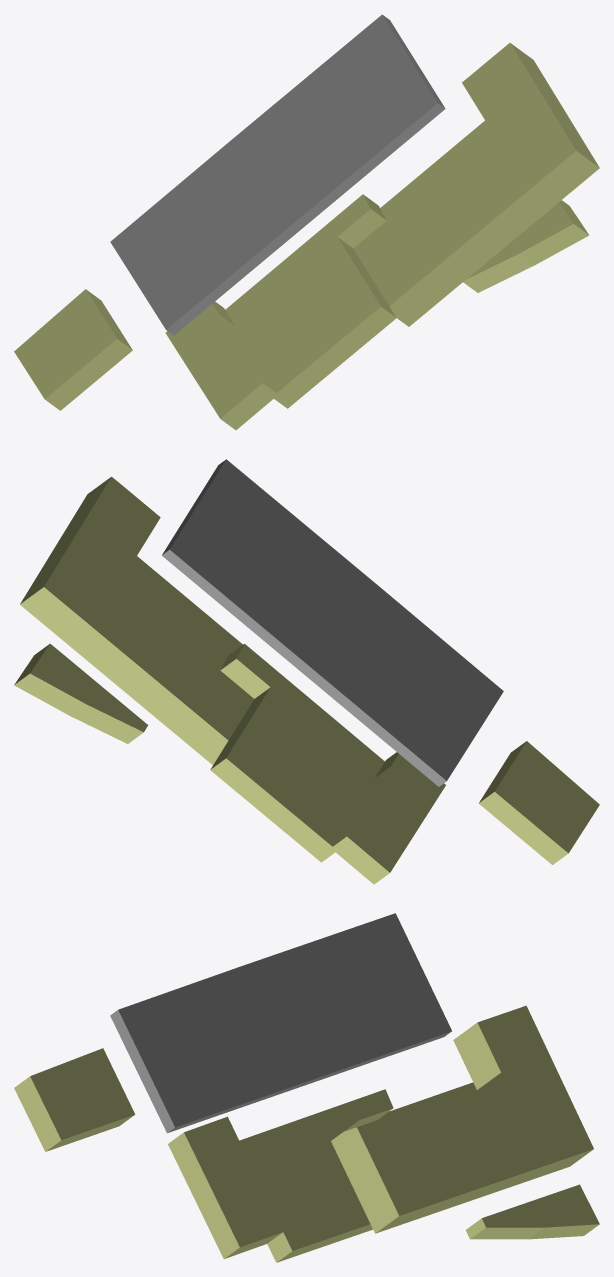
3 views of the same model, one above another, from view 1: azimuth 30°, elevation 25°; view 2: azimuth 150°, elevation 25°; view 3: azimuth 330°, elevation 25° (orthographic). The views are drawn at different scales.
Parts seen in each view (by area): view 1: 0_1_2_0_0_1; view 2: 0_1_2_0_0_1; view 3: 0_1_2_0_0_1.
Part boxes in pixels (x1,y1,x2,y2): 0_1_2_0_0_1: (14,14,599,430); 0_1_2_0_0_1: (14,459,599,884); 0_1_2_0_0_1: (14,913,599,1262).
Size of the model in its own units: 123 by 77.43 by 10.79.
